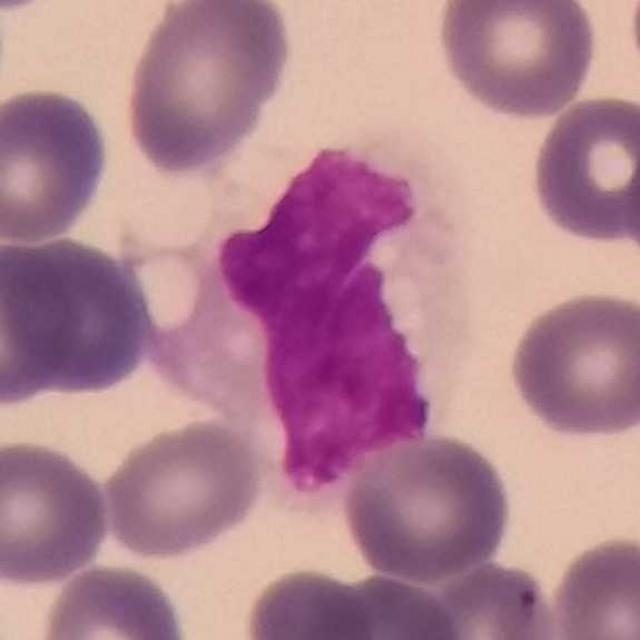Monocyte: (146, 120, 481, 500)
RBC: (119, 0, 296, 179), (338, 428, 516, 584), (98, 415, 267, 562), (23, 234, 156, 398), (504, 286, 640, 442), (432, 0, 601, 121), (0, 82, 115, 247), (526, 92, 640, 250), (0, 434, 115, 589), (0, 235, 75, 412), (407, 557, 561, 640), (34, 560, 192, 640), (240, 563, 380, 640), (312, 571, 468, 640), (545, 531, 640, 640), (620, 99, 640, 278)
